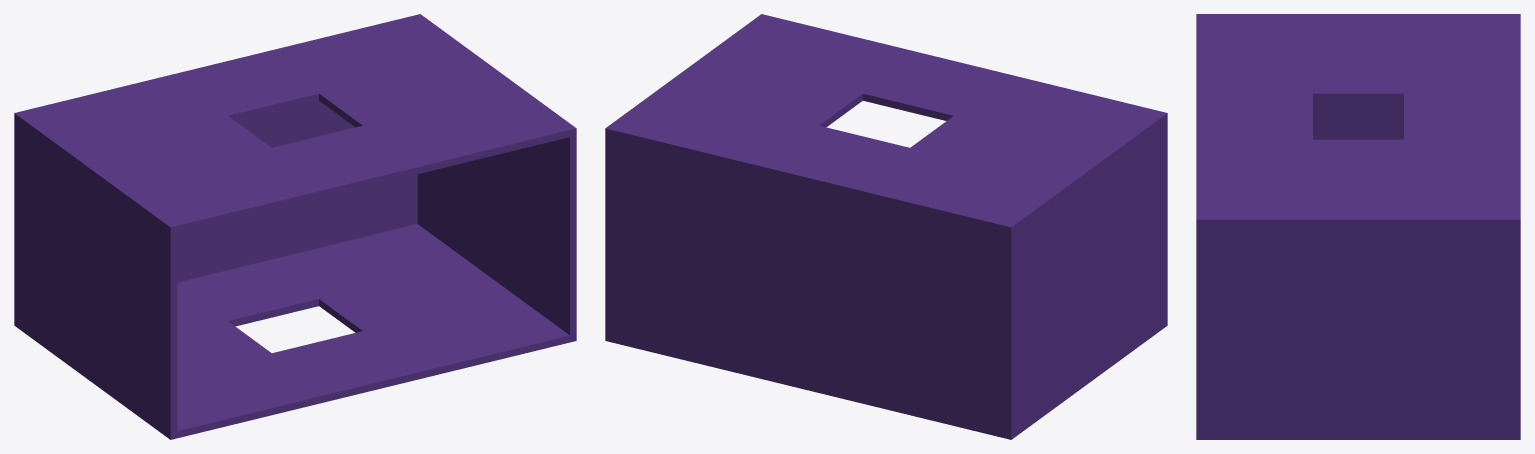
File: Room.fbx
The picture shows the model from 3 angles, left to right: view 1: azimuth 30°, elevation 25°; view 2: azimuth 150°, elevation 25°; view 3: azimuth 270°, elevation 25°; orthographic projection. The views are drawn at different scales.
Parts seen in each view (by area): view 1: room; view 2: room; view 3: room.
Boxes of the visible parts, x1,y1,x2,y2 form: room: (14,14,576,439); room: (605,14,1167,439); room: (1196,14,1520,439).
Size of the model in its own units: 6 by 3 by 4.
Materials: 1 (1 with a texture image).
